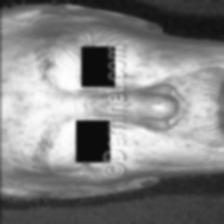Non-Cancerous Skin Condition: (0, 75, 37, 145), (123, 54, 175, 82), (138, 156, 168, 174)
